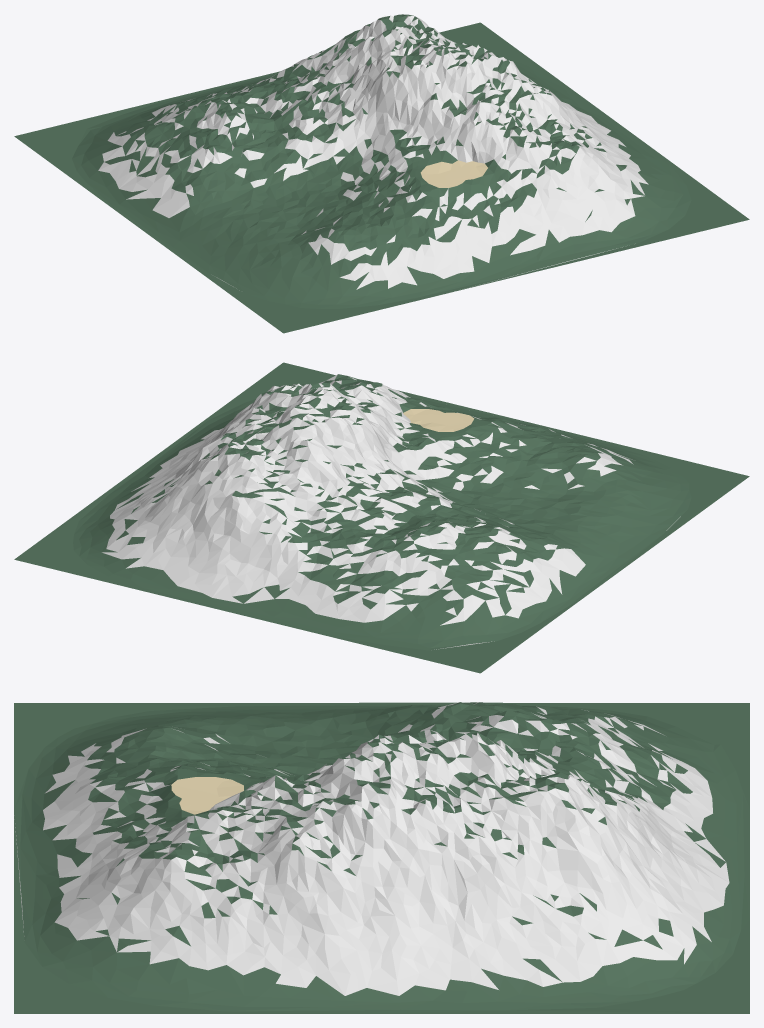
Rendered from Terrain.fbx.
3 renders of one model, top to bottom at view 1: azimuth 30°, elevation 25°; view 2: azimuth 150°, elevation 25°; view 3: azimuth 270°, elevation 25°, orthographic. The views are drawn at different scales.
Visible parts, largest first — view 1: Landscape; view 2: Landscape; view 3: Landscape.
Part boxes in pixels (box(x1,y1,x2,y2)): Landscape: box(14, 14, 749, 333); Landscape: box(14, 362, 749, 673); Landscape: box(14, 702, 749, 1013).
Bounding box in the file's own units: 200 × 46.99 × 200.
